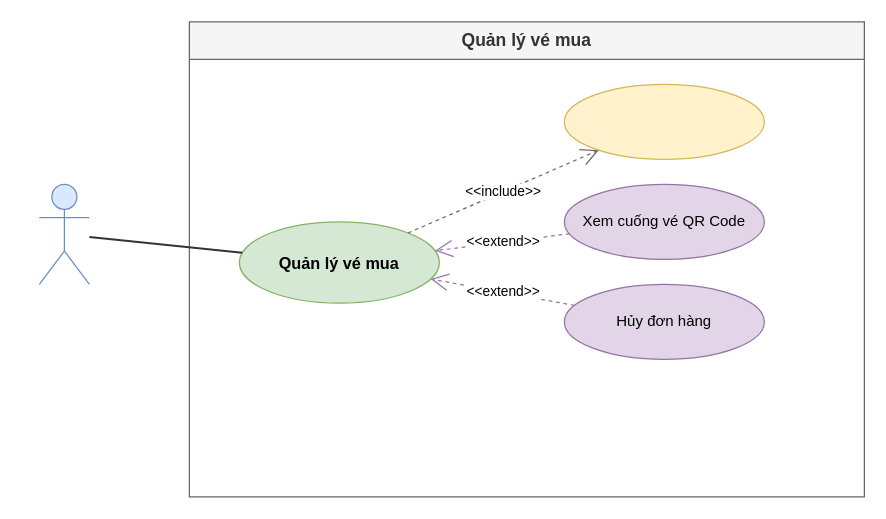
Image size: 886x519. Some labels were removed from this diagram. Here are the shapes that lost their labels. From the top down, the centre of each, then its label:
point 663,121: Xem danh sách vé đã mua
point 63,233: Khách hàng
